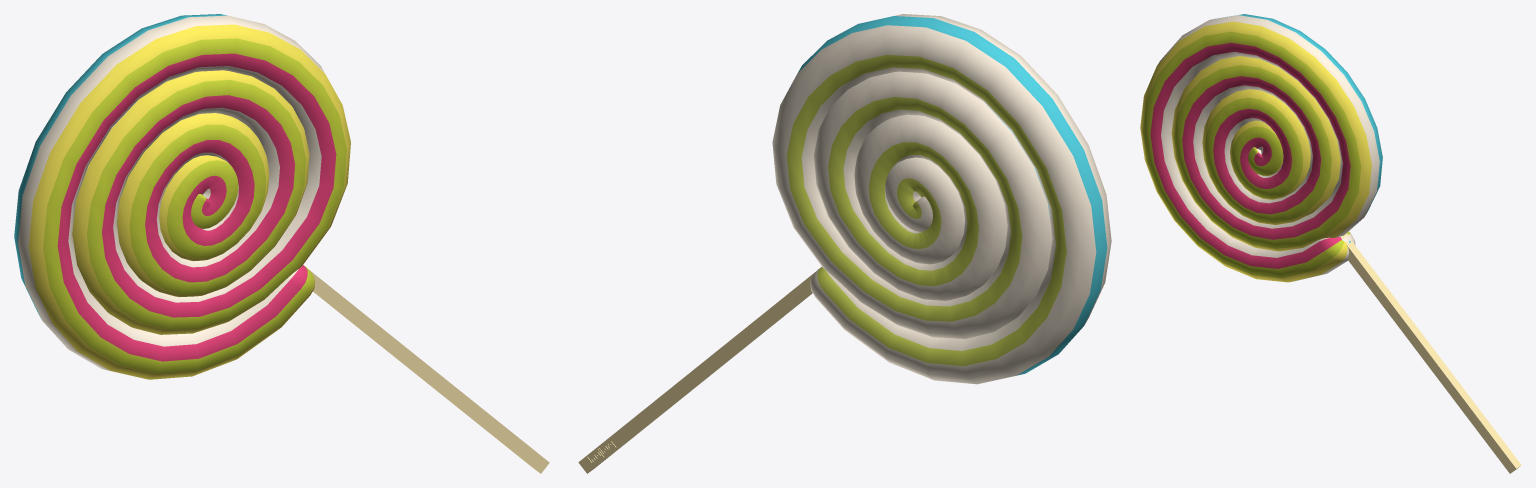
Rendered from lollipop.fbx.
The picture shows the model from 3 angles, left to right: view 1: azimuth 30°, elevation 25°; view 2: azimuth 150°, elevation 25°; view 3: azimuth 330°, elevation 25°; orthographic projection. The views are drawn at different scales.
Visible parts, largest first — view 1: BezierCurve.001; view 2: BezierCurve.001; view 3: BezierCurve.001.
Part boxes in pixels (bbox=[...]): BezierCurve.001: bbox=[14, 14, 549, 473]; BezierCurve.001: bbox=[578, 14, 1111, 473]; BezierCurve.001: bbox=[1140, 14, 1521, 473].
Bounding box in the file's own units: 228 × 223 × 24.49.
Materials: 1 (1 with a texture image).
